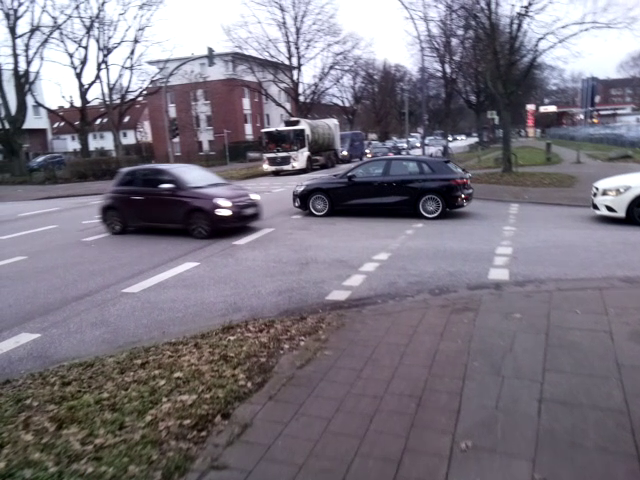car: (99, 159, 271, 242), (292, 153, 478, 221), (260, 114, 345, 172)
